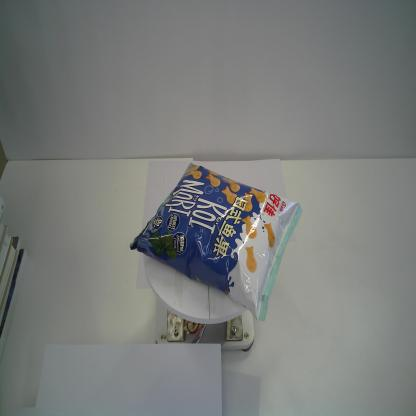Puffed Food: (128, 162, 303, 322)
